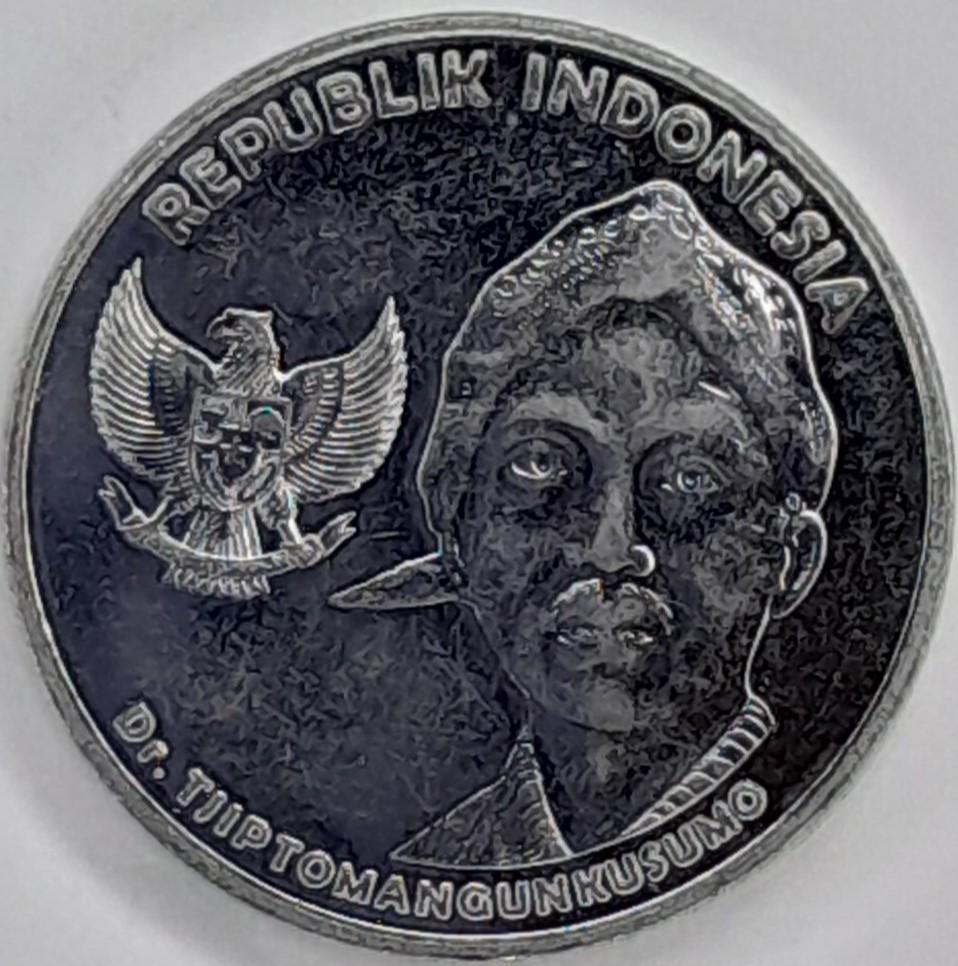coin_200_e2016: (0, 17, 958, 966)
